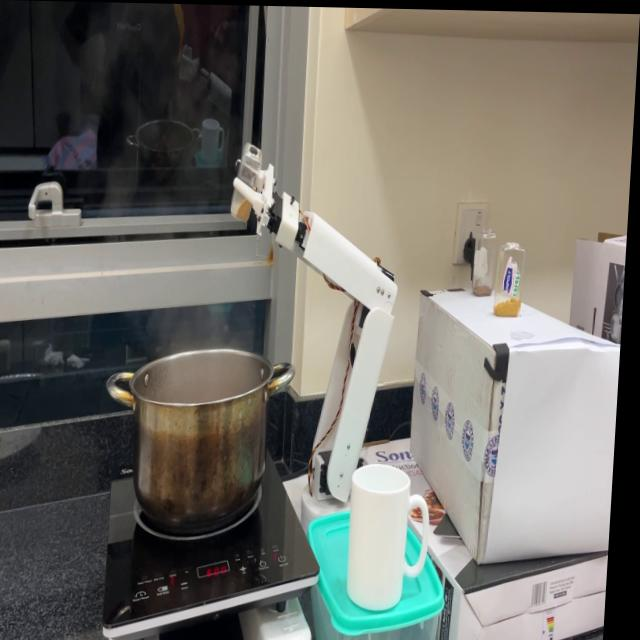cooking_pot: (106, 342, 300, 530)
curry_powder: (497, 293, 524, 314), (475, 279, 494, 295)
garlic_powder: (237, 190, 255, 222)
